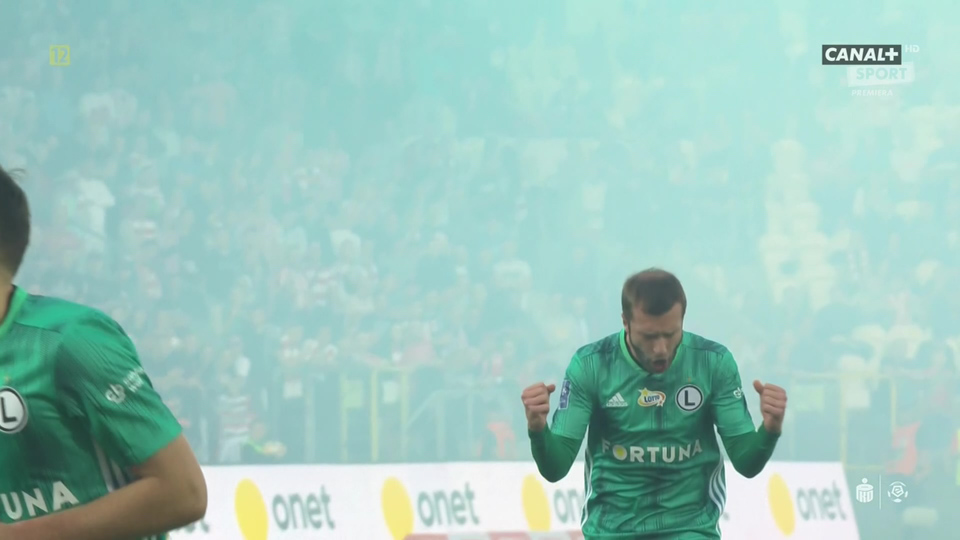Adidas: (604, 390, 628, 408)
